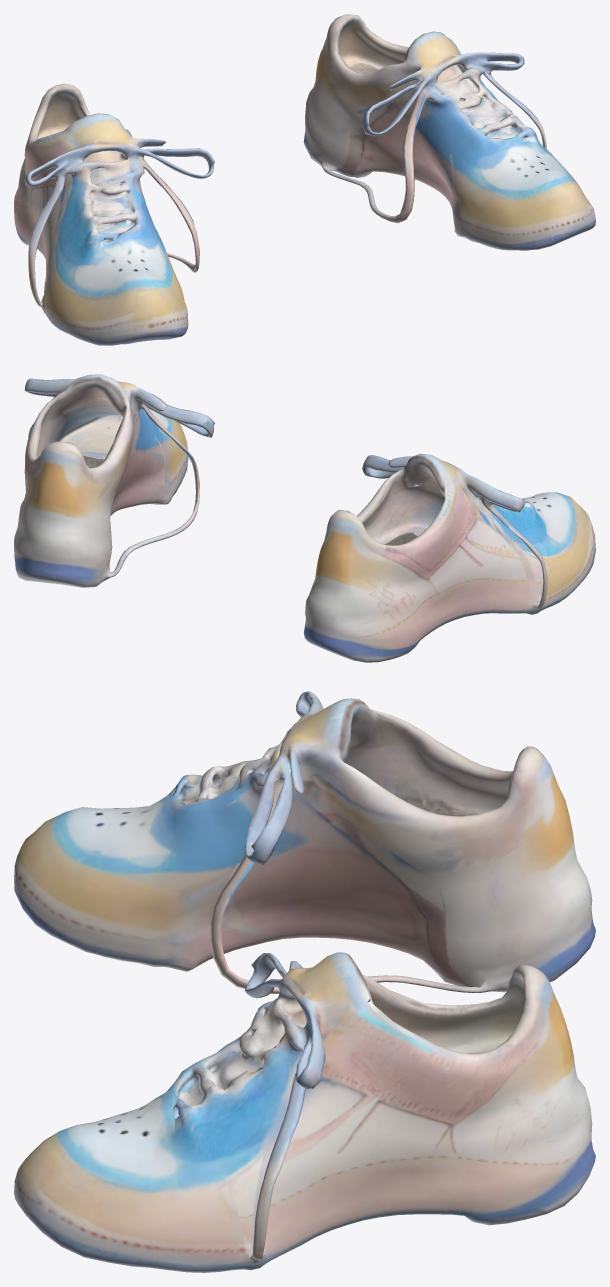
The model's file is Dreamy_Pastel_Sneaker_0202151732_texture.glb.
3 views of the same model, one above another, from view 1: azimuth 30°, elevation 25°; view 2: azimuth 150°, elevation 25°; view 3: azimuth 270°, elevation 25° (orthographic). The views are drawn at different scales.
Bounding box in the file's own units: 2 × 0.5979 × 1.24.
1 material, 1 textured.
